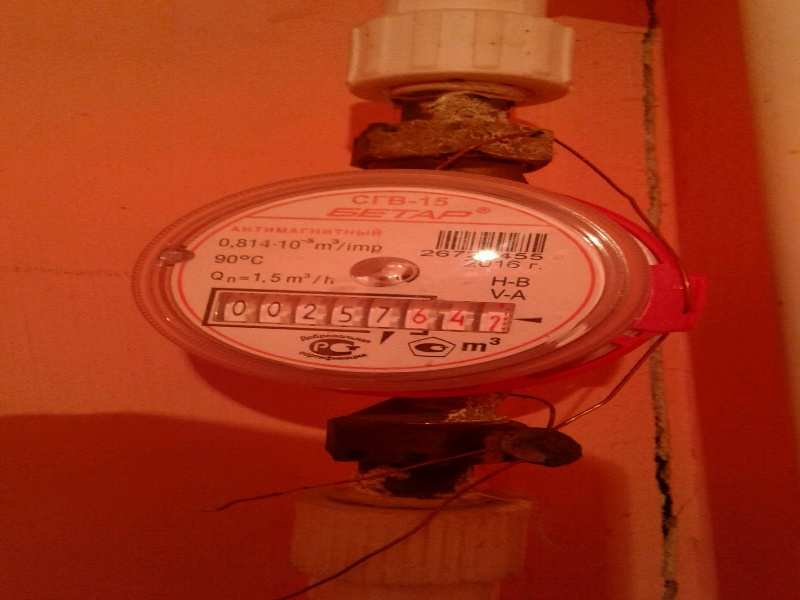meter: (212, 296, 509, 333)
